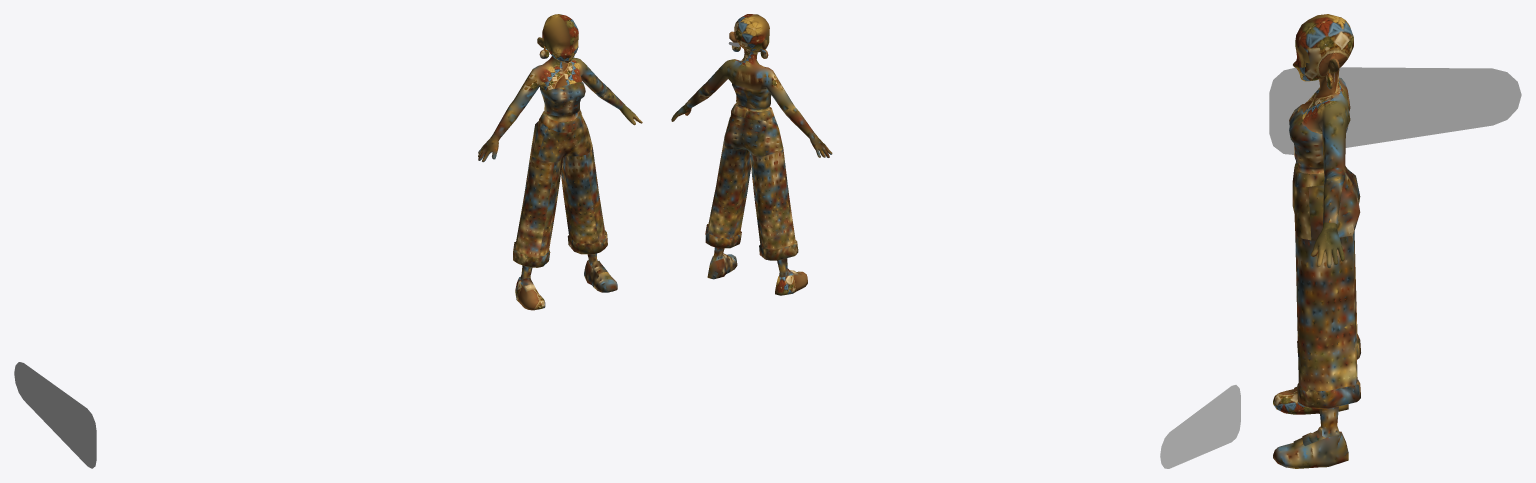
File: Deiva 2.fbx
The picture shows the model from 3 angles, left to right: view 1: azimuth 30°, elevation 25°; view 2: azimuth 150°, elevation 25°; view 3: azimuth 270°, elevation 25°; orthographic projection. The views are drawn at different scales.
Visible parts, largest first — view 1: mesh_rep_0_ori_repair_quad.001, cs_user_c_shoulder.r; view 2: mesh_rep_0_ori_repair_quad.001, cs_user_c_shoulder.r; view 3: mesh_rep_0_ori_repair_quad.001, cs_user_c_shoulder.r.
Part boxes in pixels (box(x1,y1,x2,y2)): mesh_rep_0_ori_repair_quad.001: box(478, 14, 642, 310); cs_user_c_shoulder.r: box(14, 362, 96, 468); mesh_rep_0_ori_repair_quad.001: box(671, 14, 832, 295); cs_user_c_shoulder.r: box(1160, 385, 1240, 468); mesh_rep_0_ori_repair_quad.001: box(1273, 14, 1360, 468); cs_user_c_shoulder.r: box(1269, 67, 1521, 154).
Size of the model in its own units: 343 by 190 by 87.34.
